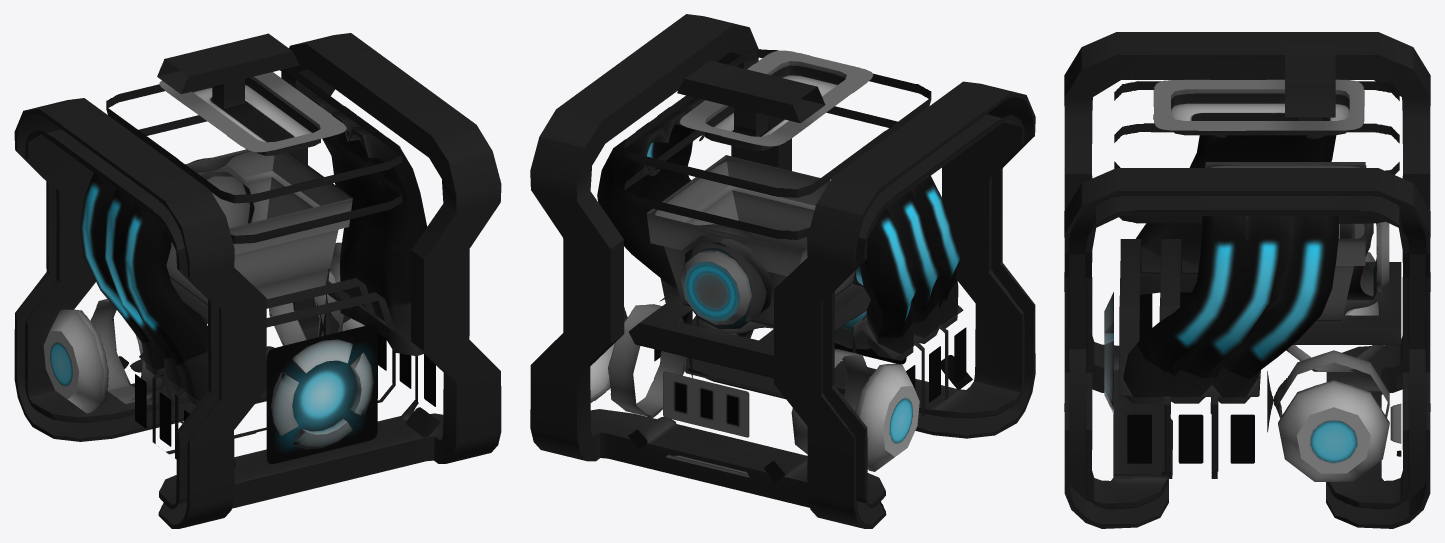
Rendered from obj_interactive_gasengine_04_off.fbx.
3 renders of one model, left to right at view 1: azimuth 30°, elevation 25°; view 2: azimuth 150°, elevation 25°; view 3: azimuth 270°, elevation 25°, orthographic. The views are drawn at different scales.
Parts seen in each view (by area): view 1: obj_interactive_gasengine_04_off; view 2: obj_interactive_gasengine_04_off; view 3: obj_interactive_gasengine_04_off.
Part boxes in pixels (x1,y1,x2,y2): obj_interactive_gasengine_04_off: (14,33,501,528); obj_interactive_gasengine_04_off: (530,14,1035,528); obj_interactive_gasengine_04_off: (1064,32,1430,528).
Size of the model in its own units: 2.01 by 2.33 by 1.95.
